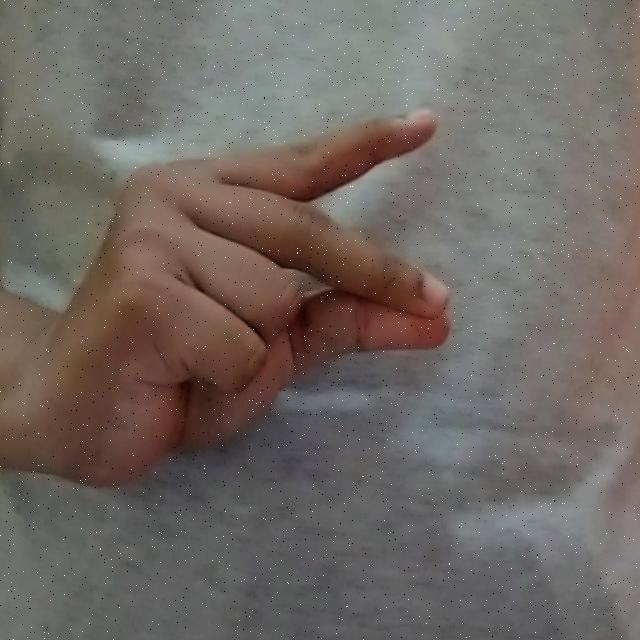R: (59, 102, 458, 491)
